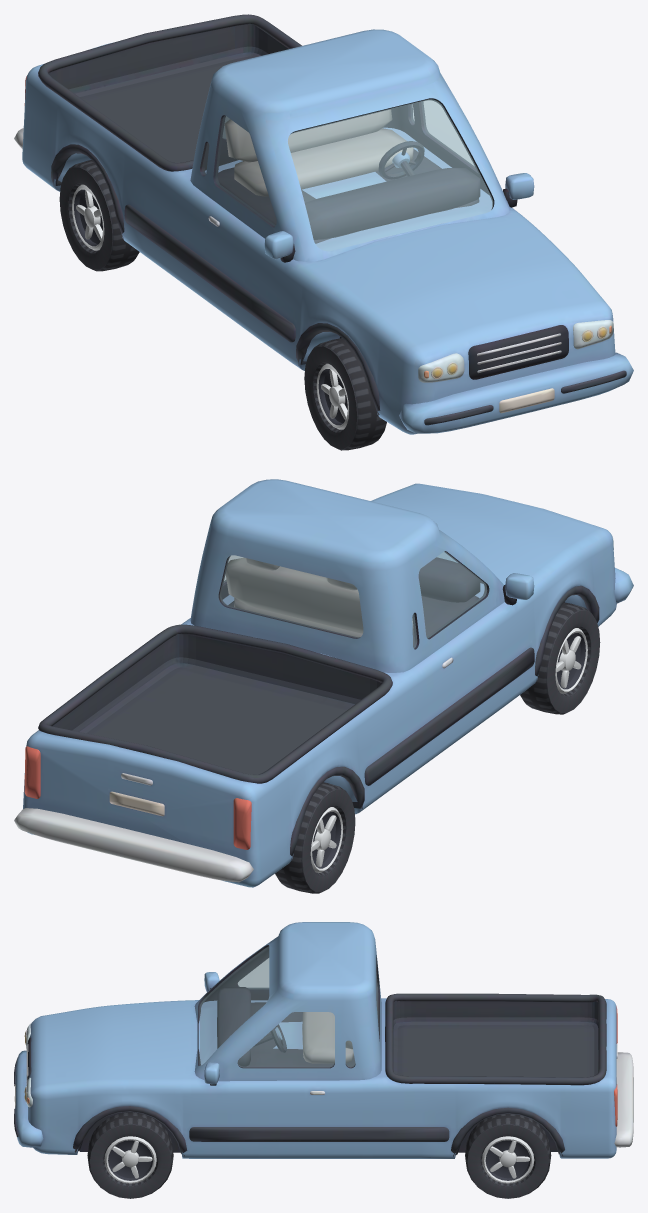
File: 1990s-pickup-truck.glb
3 renders of one model, top to bottom at view 1: azimuth 30°, elevation 25°; view 2: azimuth 150°, elevation 25°; view 3: azimuth 270°, elevation 25°, orthographic. The views are drawn at different scales.
Visible parts, largest first — view 1: 1990s-pickup-truck_body, 1990s-pickup-truck_windows, 1990s-pickup-truck_wheel_fr, 1990s-pickup-truck_wheel_rr; view 2: 1990s-pickup-truck_body, 1990s-pickup-truck_windows, 1990s-pickup-truck_wheel_fr, 1990s-pickup-truck_wheel_rr; view 3: 1990s-pickup-truck_body, 1990s-pickup-truck_windows, 1990s-pickup-truck_wheel_fl, 1990s-pickup-truck_wheel_rl.
Part boxes in pixels (x1,y1,x2,y2): 1990s-pickup-truck_body: (14, 14, 633, 434); 1990s-pickup-truck_windows: (202, 99, 492, 250); 1990s-pickup-truck_wheel_fr: (304, 338, 386, 450); 1990s-pickup-truck_wheel_rr: (59, 160, 139, 271); 1990s-pickup-truck_body: (14, 479, 633, 887); 1990s-pickup-truck_windows: (220, 551, 486, 648); 1990s-pickup-truck_wheel_fr: (520, 602, 600, 714); 1990s-pickup-truck_wheel_rr: (275, 782, 355, 893); 1990s-pickup-truck_body: (14, 922, 633, 1158); 1990s-pickup-truck_windows: (199, 946, 377, 1067); 1990s-pickup-truck_wheel_fl: (87, 1112, 173, 1198); 1990s-pickup-truck_wheel_rl: (465, 1113, 551, 1198).
Size of the model in its own units: 2.03 by 1.9 by 5.32.
Materials: 6 (2 with a texture image).
